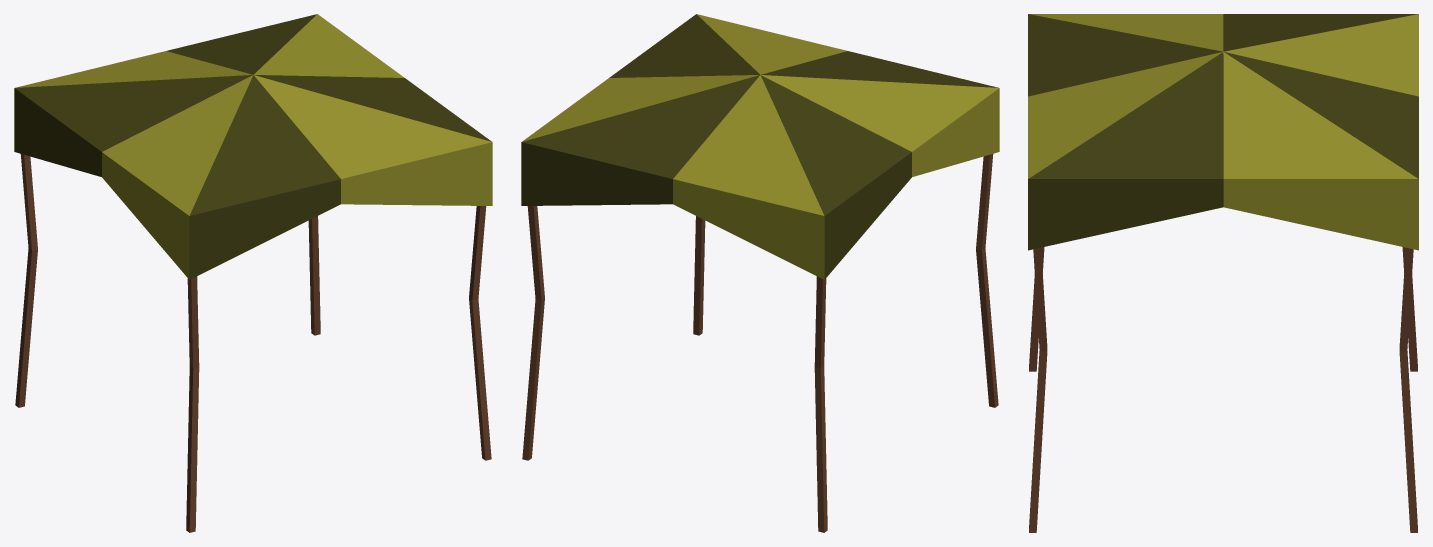
The model's file is Tent_7_Yellow.fbx.
3 views of the same model, side by side, from view 1: azimuth 30°, elevation 25°; view 2: azimuth 150°, elevation 25°; view 3: azimuth 270°, elevation 25° (orthographic). The views are drawn at different scales.
Parts seen in each view (by area): view 1: Tent_7_Yellow; view 2: Tent_7_Yellow; view 3: Tent_7_Yellow.
Part boxes in pixels (box(x1,y1,x2,y2)): Tent_7_Yellow: box(14, 14, 492, 532); Tent_7_Yellow: box(521, 14, 999, 532); Tent_7_Yellow: box(1028, 14, 1418, 532).
Size of the model in its own units: 500 by 563 by 500.
